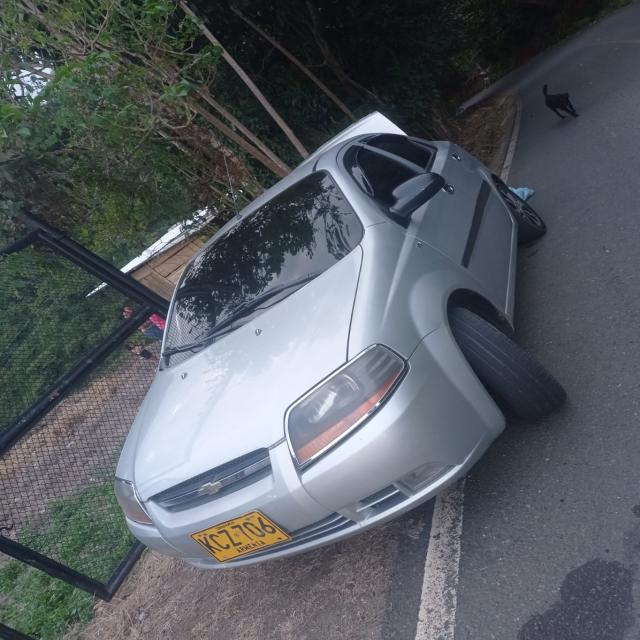placa: (196, 509, 293, 567)
